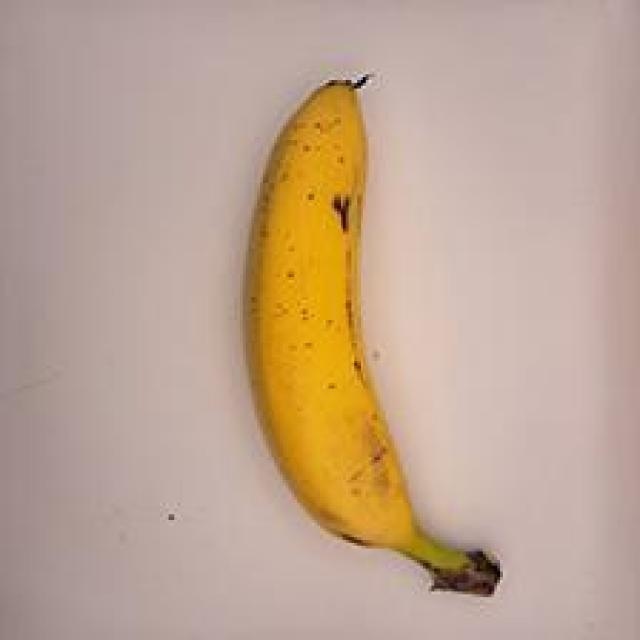ripe: (197, 52, 522, 618)
